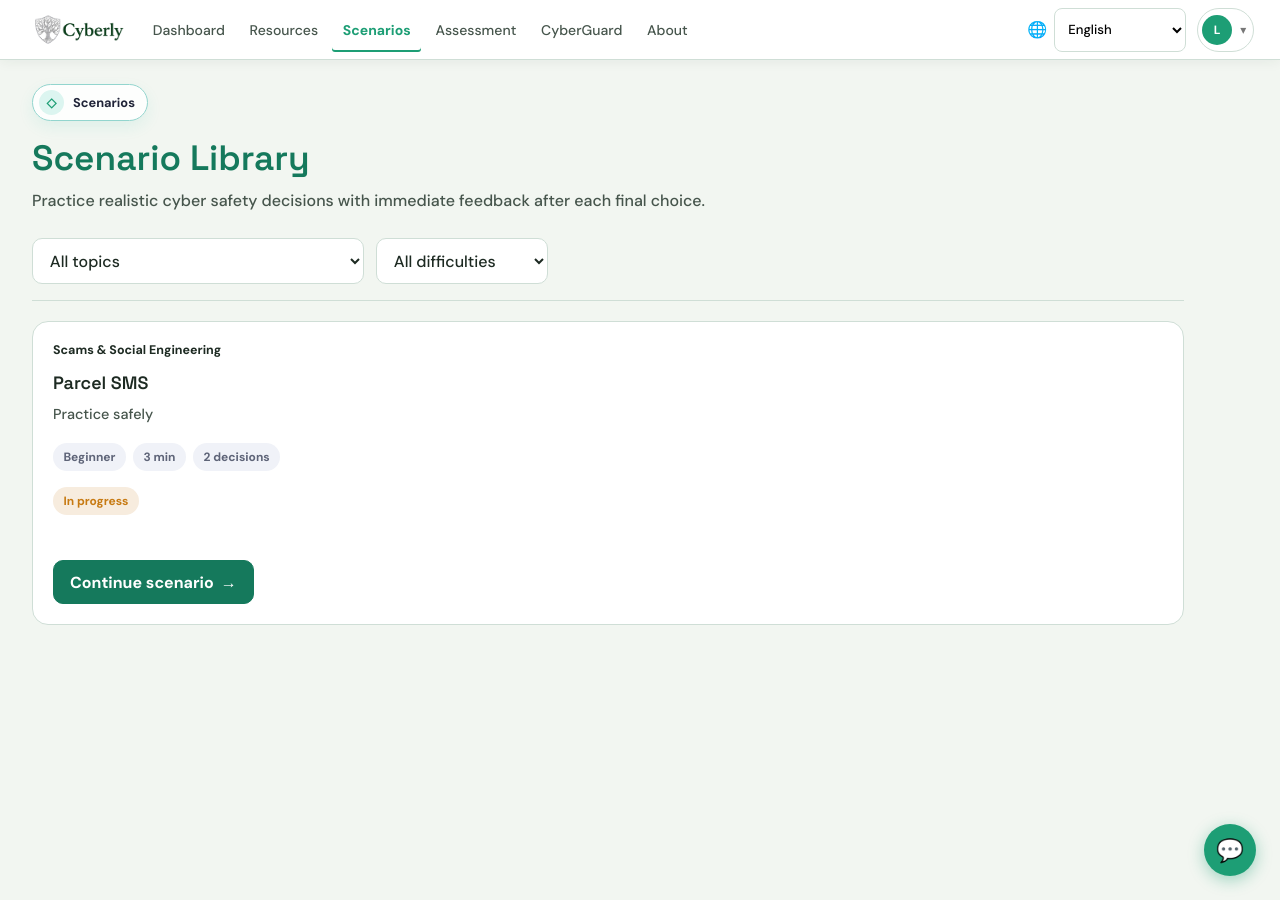
Test: ordinary Library resume remains unchanged
Step 1. Click the button "Continue scenario →" → coordinates (153, 582), box [53, 560, 254, 604]
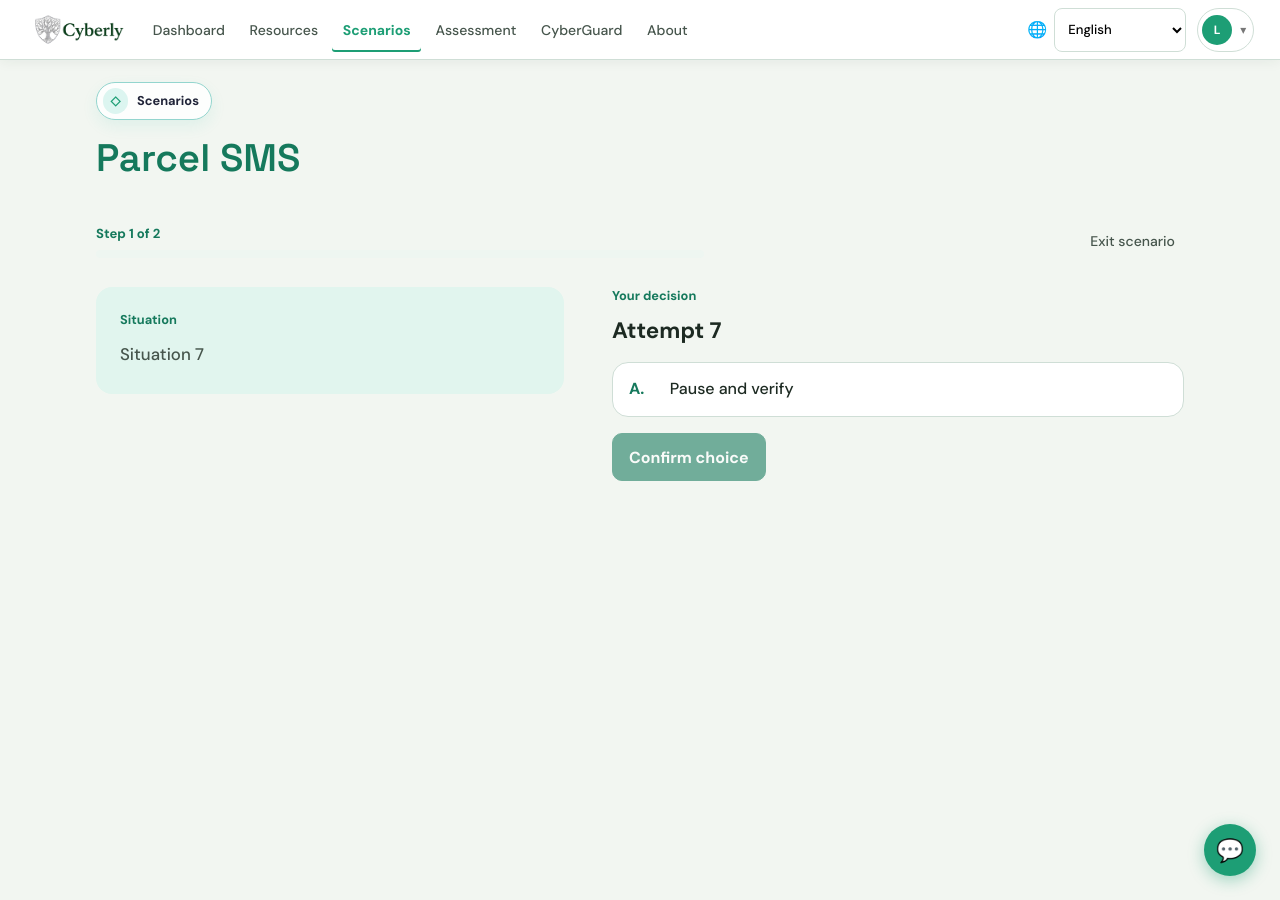
Result: the text "Situation 7" is shown at [120, 343, 204, 365]
